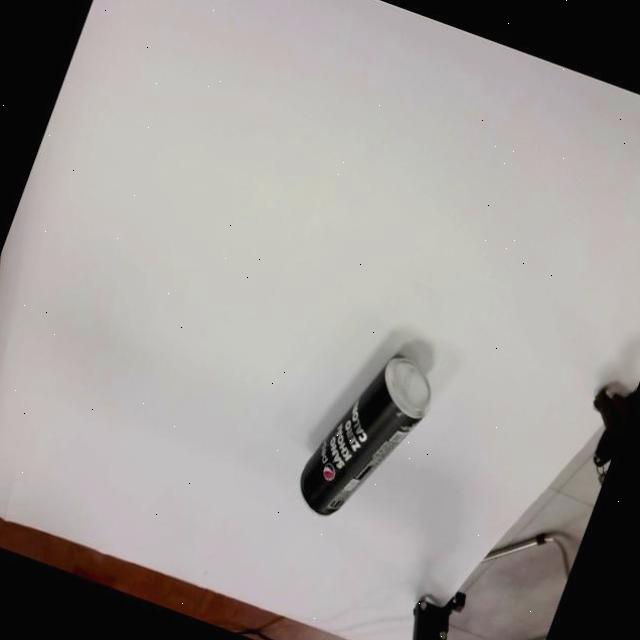debris: (290, 325, 448, 539)
